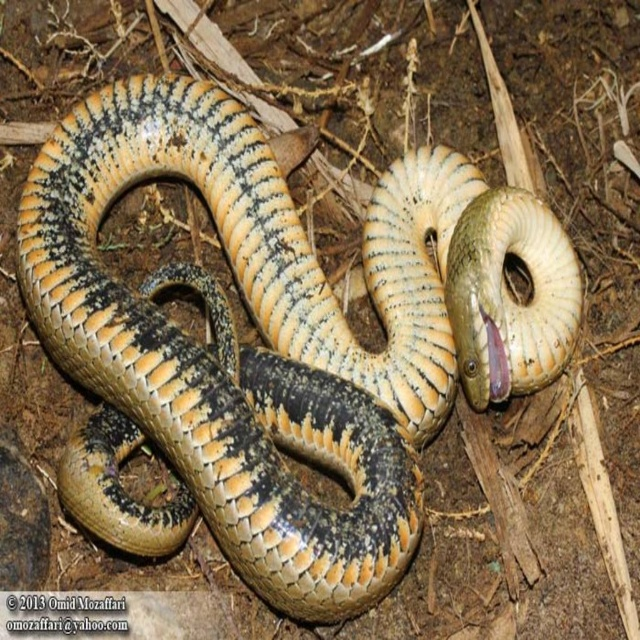Snake: (19, 68, 583, 627)
